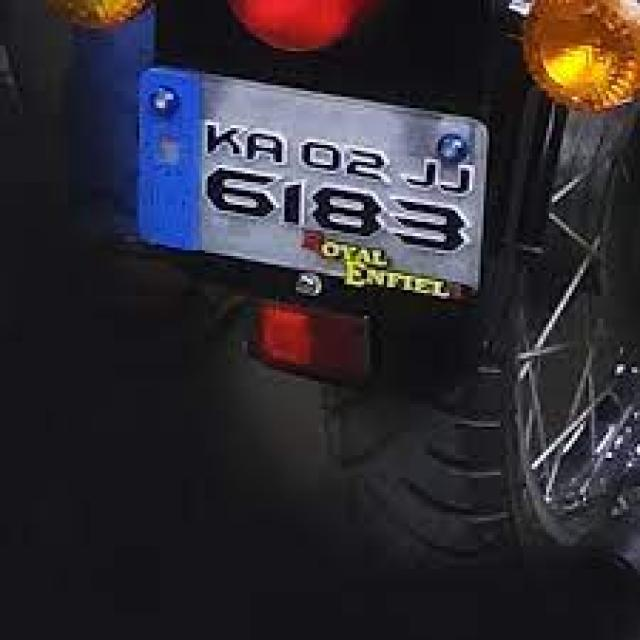number plate: (131, 60, 492, 310)
